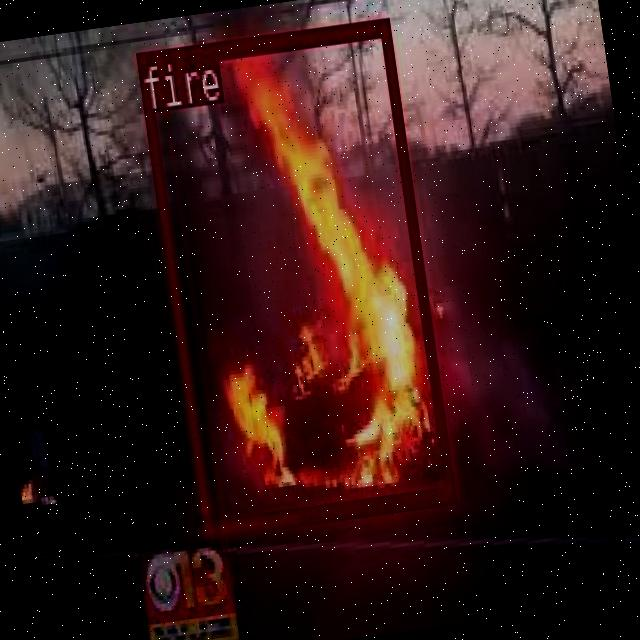fire: (134, 14, 455, 536)
